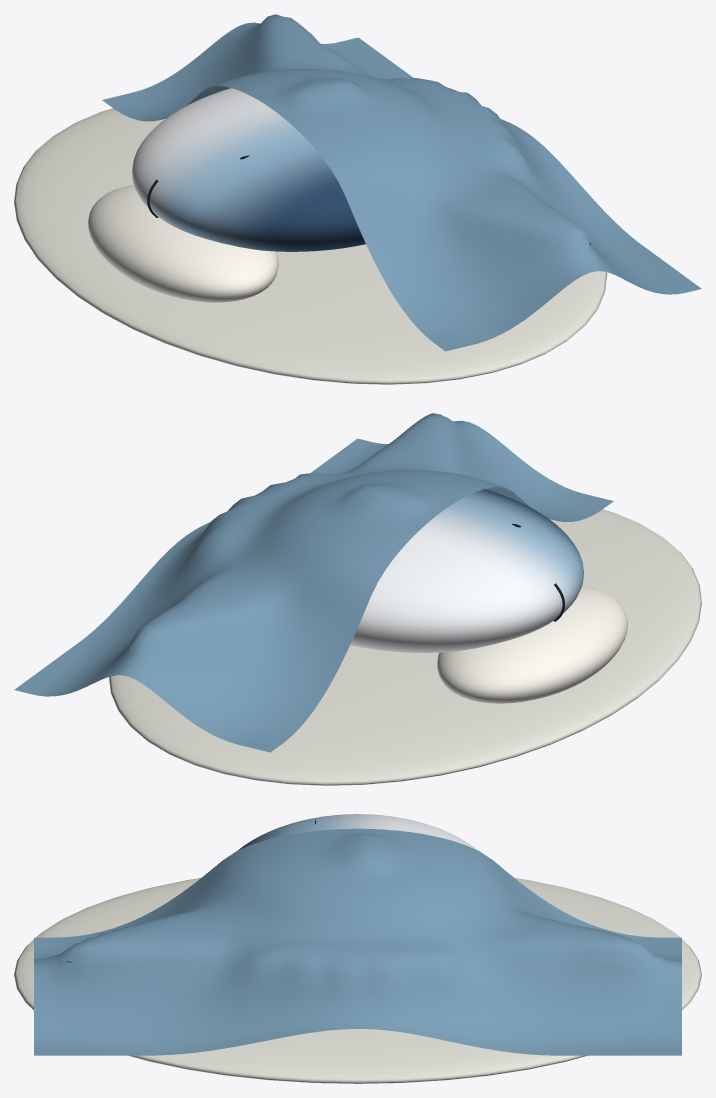
File: covered.glb
3 views of the same model, one above another, from view 1: azimuth 30°, elevation 25°; view 2: azimuth 150°, elevation 25°; view 3: azimuth 270°, elevation 25° (orthographic). The views are drawn at different scales.
Visible parts, largest first — view 1: A blanket from someone, Resting place, KiabouMesh, Little pillow; view 2: A blanket from someone, Resting place, KiabouMesh, Little pillow; view 3: A blanket from someone, Resting place, KiabouMesh.
Boxes of the visible parts, left/top/right/bottom form: A blanket from someone: left=102, top=14, right=701, bottom=351; Resting place: left=14, top=108, right=607, bottom=384; KiabouMesh: left=132, top=88, right=590, bottom=251; Little pillow: left=88, top=185, right=278, bottom=302; A blanket from someone: left=14, top=413, right=613, bottom=752; Resting place: left=109, top=509, right=701, bottom=785; KiabouMesh: left=350, top=489, right=583, bottom=652; Little pillow: left=437, top=586, right=627, bottom=703; A blanket from someone: left=34, top=828, right=681, bottom=1055; Resting place: left=14, top=878, right=701, bottom=1083; KiabouMesh: left=66, top=814, right=477, bottom=962.
Bounding box in the file's own units: 0.228 × 0.0768 × 0.308.
7 materials, 1 textured.
